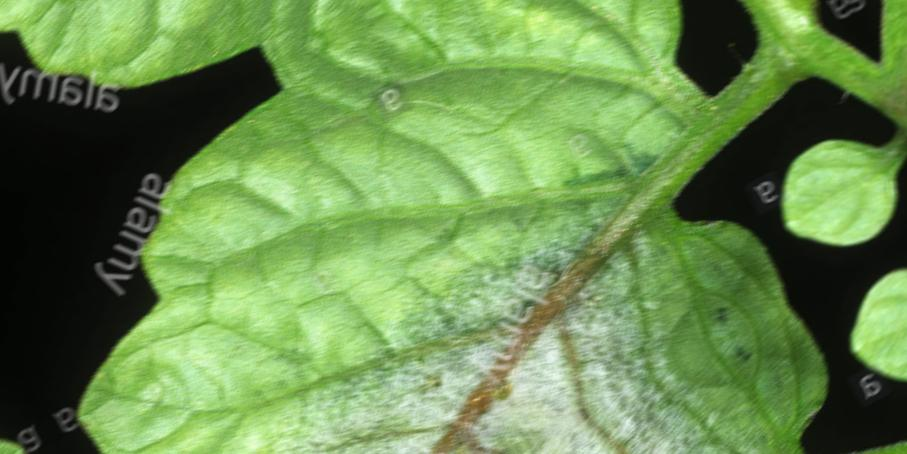Tomato leaf late blight: (0, 0, 874, 454)
